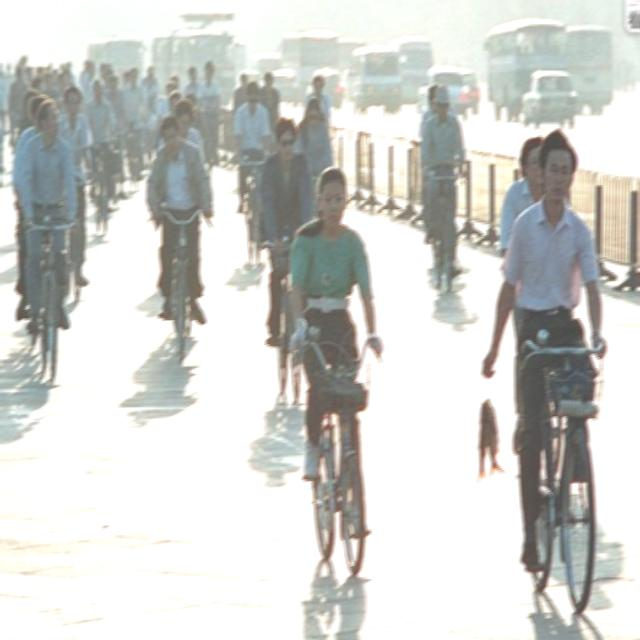Without Helmet: (536, 126, 580, 211), (310, 163, 348, 229)
